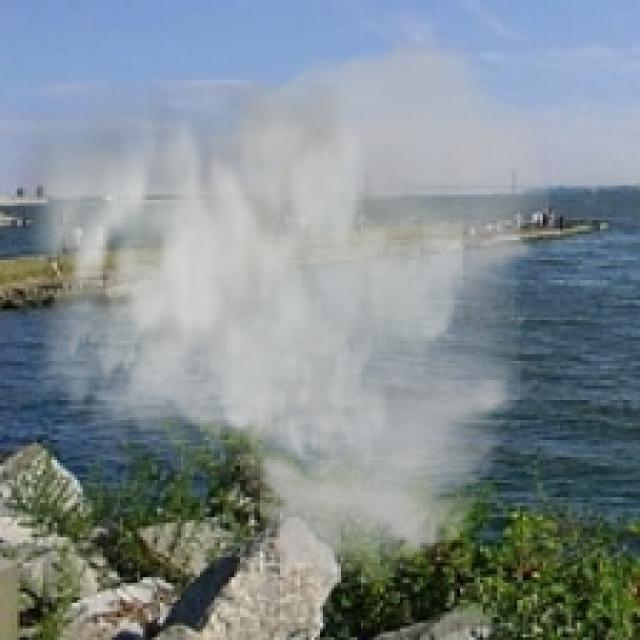Smoke: (0, 28, 555, 592)
